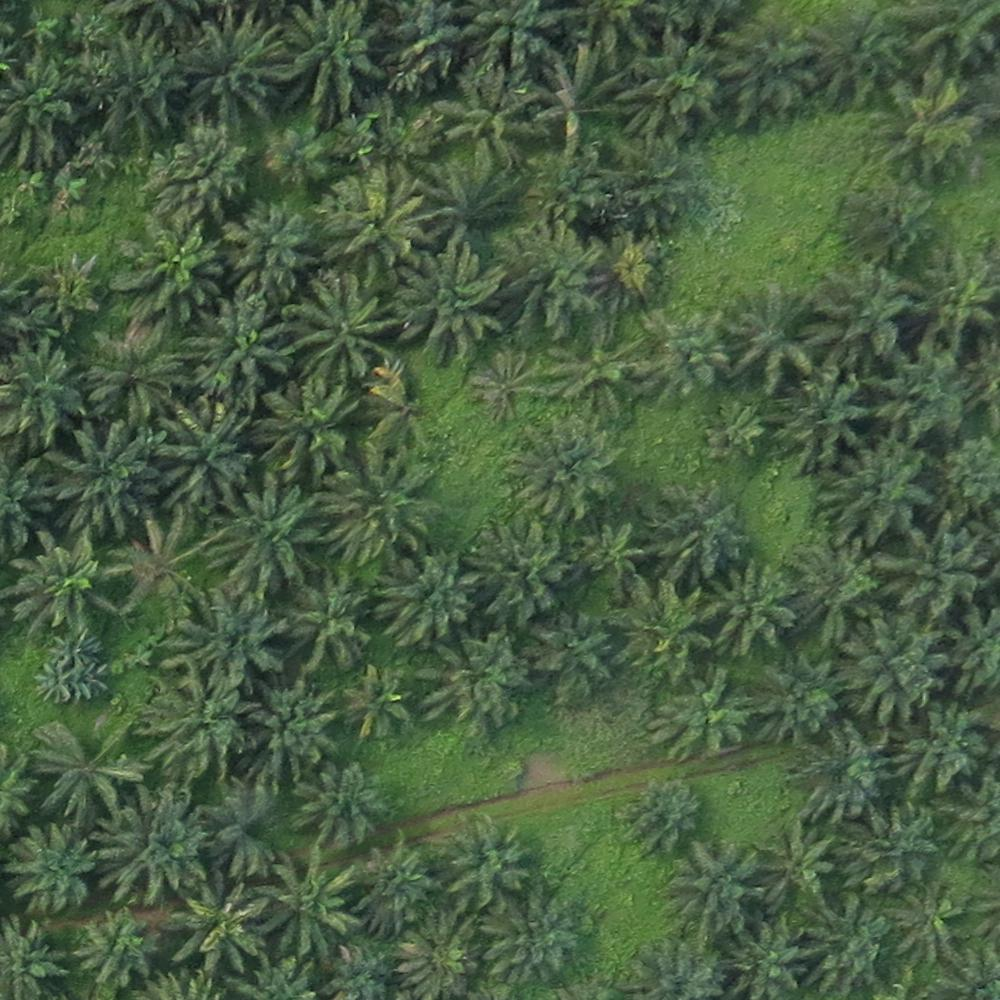Palm: (394, 242, 503, 361), (211, 490, 328, 599), (49, 421, 161, 533), (12, 529, 125, 639), (135, 673, 251, 779), (98, 790, 205, 901), (329, 456, 435, 565), (271, 6, 381, 110), (112, 216, 218, 323), (183, 18, 286, 125), (289, 274, 389, 383), (150, 401, 253, 506), (260, 852, 361, 959), (421, 638, 528, 739), (514, 422, 618, 524), (84, 35, 186, 139), (842, 613, 947, 714), (31, 719, 137, 816), (884, 517, 985, 618), (172, 593, 284, 684), (313, 172, 421, 266), (167, 874, 268, 973), (111, 518, 211, 617), (829, 442, 928, 542), (186, 301, 289, 395), (616, 577, 710, 677), (219, 204, 315, 300), (838, 804, 940, 894), (791, 729, 894, 818), (657, 665, 753, 760), (728, 284, 820, 383), (629, 36, 723, 131), (250, 386, 348, 477), (5, 57, 90, 161), (666, 839, 758, 935), (286, 764, 387, 851), (248, 682, 341, 776), (286, 579, 379, 673), (778, 374, 870, 468), (82, 328, 180, 416), (1, 341, 83, 445), (896, 706, 986, 799), (444, 816, 532, 911), (701, 566, 796, 654), (471, 524, 562, 614), (488, 893, 581, 981), (378, 559, 475, 642), (353, 844, 441, 935), (800, 900, 886, 993), (910, 256, 996, 349), (199, 782, 286, 873), (6, 826, 92, 913), (529, 617, 620, 699), (755, 656, 842, 738), (751, 829, 834, 910), (400, 911, 479, 993), (882, 882, 963, 960), (73, 916, 155, 991), (730, 918, 807, 996), (337, 665, 416, 740), (628, 781, 702, 851)
